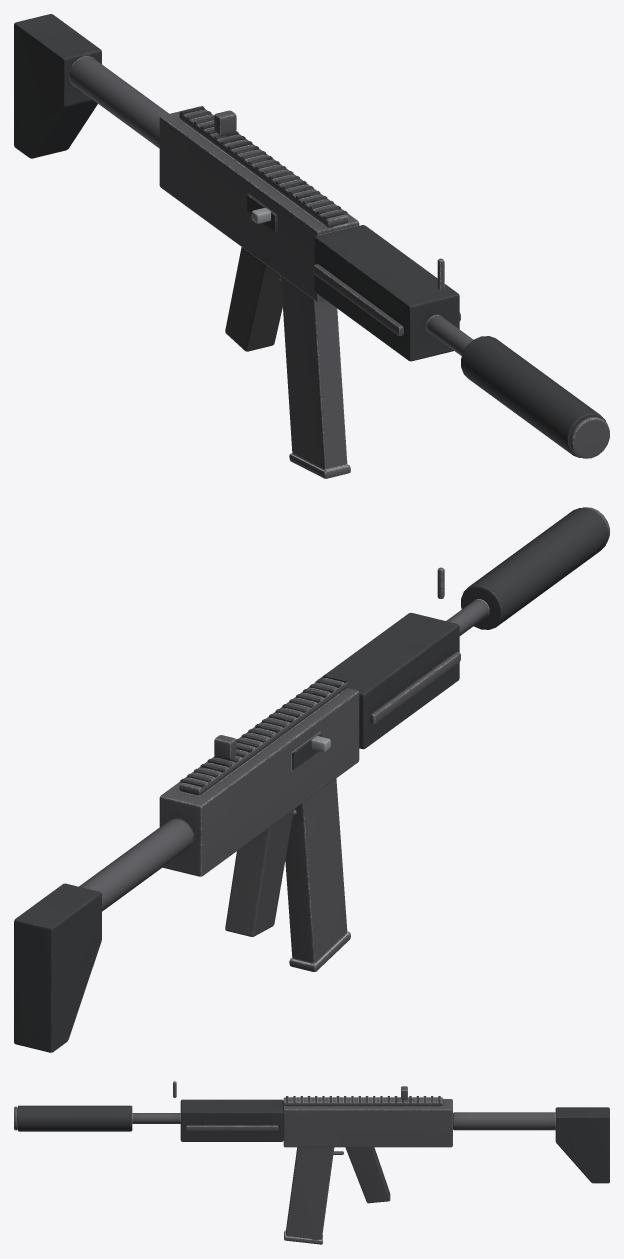
3 renders of one model, top to bottom at view 1: azimuth 30°, elevation 25°; view 2: azimuth 150°, elevation 25°; view 3: azimuth 270°, elevation 25°, orthographic. The views are drawn at different scales.
Visible parts, largest first — view 1: m4a1s; view 2: m4a1s; view 3: m4a1s.
Part boxes in pixels (x1,y1,x2,y2): m4a1s: (14, 14, 609, 478); m4a1s: (14, 507, 609, 1052); m4a1s: (14, 1081, 609, 1244).
Bounding box in the file's own units: 0.07 × 0.2924 × 0.986.
